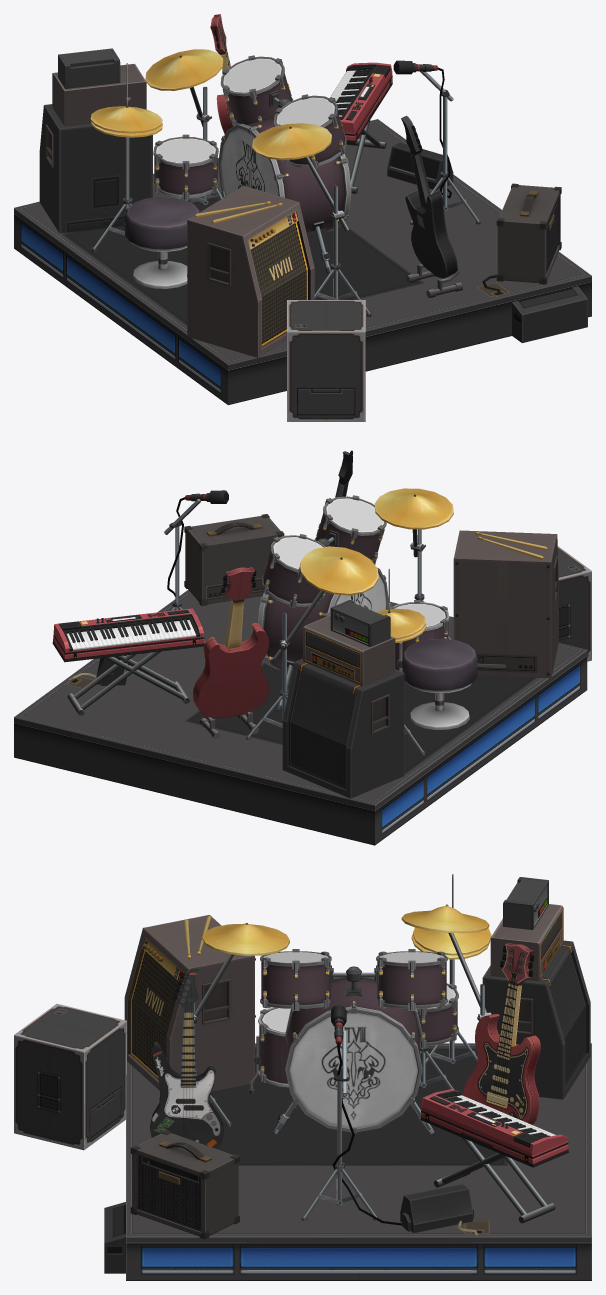
Rendered from my_event058_rockbandset.glb.
The picture shows the model from 3 angles, top to bottom: view 1: azimuth 30°, elevation 25°; view 2: azimuth 150°, elevation 25°; view 3: azimuth 270°, elevation 25°; orthographic projection. The views are drawn at different scales.
Parts seen in each view (by area): view 1: my_event058_rockbandset; view 2: my_event058_rockbandset; view 3: my_event058_rockbandset.
Part boxes in pixels (left/top/right/bottom): my_event058_rockbandset: left=14, top=14, right=591, bottom=421; my_event058_rockbandset: left=14, top=450, right=591, bottom=845; my_event058_rockbandset: left=14, top=874, right=591, bottom=1280.
Size of the model in its own units: 0.0169 by 0.00955 by 0.0209.
Materials: 1 (1 with a texture image).
